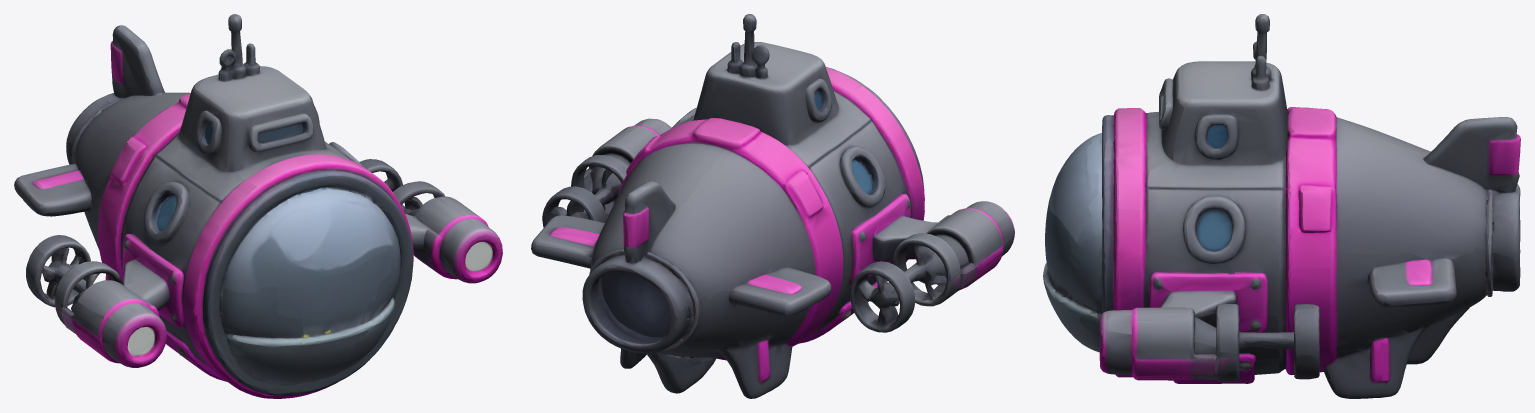
The model's file is sub-forge.glb.
3 renders of one model, left to right at view 1: azimuth 30°, elevation 25°; view 2: azimuth 150°, elevation 25°; view 3: azimuth 270°, elevation 25°, orthographic. The views are drawn at different scales.
Parts seen in each view (by area): view 1: world; view 2: world; view 3: world.
Part boxes in pixels (bbox=[...]): world: bbox=[14, 14, 502, 398]; world: bbox=[531, 14, 1014, 398]; world: bbox=[1043, 14, 1520, 398].
Size of the model in its own units: 0.45 by 0.3673 by 0.4466.
1 material, 1 textured.
